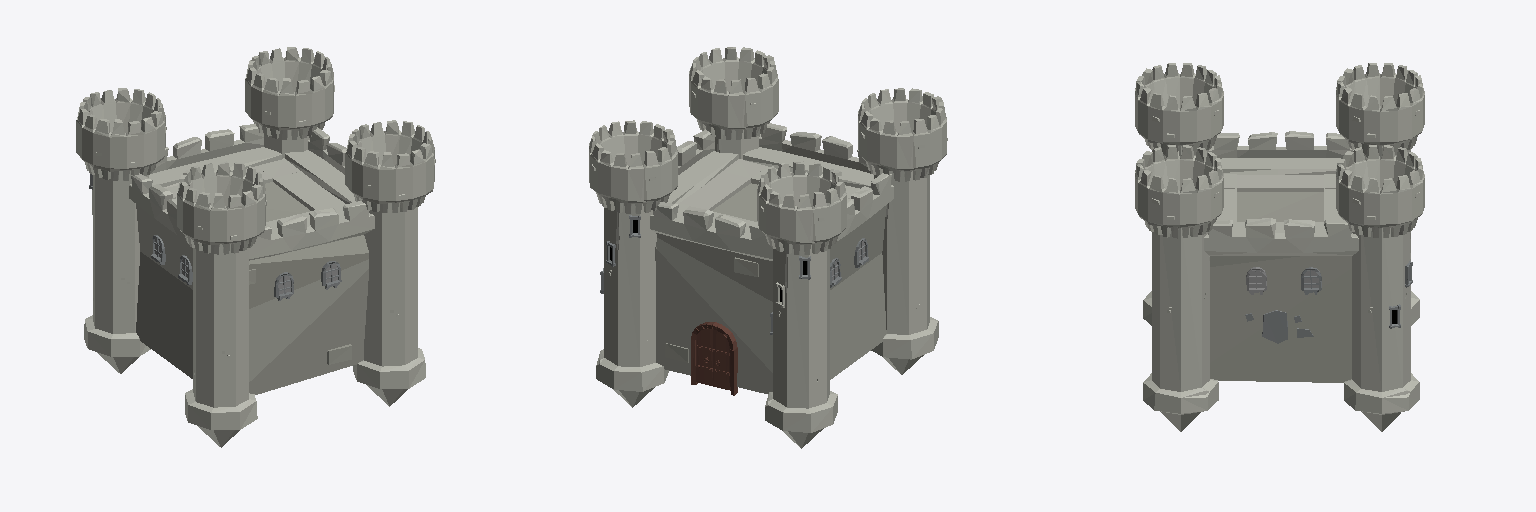
File: keep_north.obj
The picture shows the model from 3 angles: view 1: azimuth 30°, elevation 25°; view 2: azimuth 150°, elevation 25°; view 3: azimuth 270°, elevation 25°; orthographic projection.
Parts seen in each view (by area): view 1: HouseBase_3_AO.001_HouseBase_3_AO.005, Castle-tower-small-ver2.005_Untitled.088, Castle-tower-small-ver2.006_Untitled.089, Castle-tower-small-ver2.004_Untitled.087, Castle-tower-small-ver2.003_Untitled.086, castle-wall-top-half.003_Untitled.090, castle-wall-top-half.006_Untitled.093, castle-wall-top-half.005_Untitled.092, castle-wall-top-half.004_Untitled.091; view 2: HouseBase_3_AO.001_HouseBase_3_AO.005, Castle-tower-small-ver2.004_Untitled.087, Castle-tower-small-ver2.003_Untitled.086, Castle-tower-small-ver2.005_Untitled.088, Castle-tower-small-ver2.006_Untitled.089, castle-wall-top-half.005_Untitled.092, castle-wall-top-half.006_Untitled.093, castle-wall-top-half.003_Untitled.090, Castle-gate-closed.001_Untitled.096, castle-wall-top-half.004_Untitled.091; view 3: HouseBase_3_AO.001_HouseBase_3_AO.005, Castle-tower-small-ver2.006_Untitled.089, Castle-tower-small-ver2.003_Untitled.086, Castle-tower-small-ver2.004_Untitled.087, Castle-tower-small-ver2.005_Untitled.088, castle-wall-top-half.004_Untitled.091, castle-wall-top-half.006_Untitled.093, Paving_3_AO.004, castle-wall-top-half.005_Untitled.092, castle-wall-top-half.003_Untitled.090.
Boxes of the visible parts, x1=… form: HouseBase_3_AO.001_HouseBase_3_AO.005: x1=136, y1=182, x2=368, y2=394; Castle-tower-small-ver2.005_Untitled.088: x1=177, y1=161, x2=266, y2=447; Castle-tower-small-ver2.006_Untitled.089: x1=345, y1=120, x2=435, y2=406; Castle-tower-small-ver2.004_Untitled.087: x1=76, y1=88, x2=166, y2=373; Castle-tower-small-ver2.003_Untitled.086: x1=245, y1=47, x2=334, y2=158; castle-wall-top-half.003_Untitled.090: x1=149, y1=124, x2=298, y2=197; castle-wall-top-half.006_Untitled.093: x1=257, y1=127, x2=355, y2=215; castle-wall-top-half.005_Untitled.092: x1=249, y1=201, x2=374, y2=260; castle-wall-top-half.004_Untitled.091: x1=129, y1=173, x2=185, y2=240; HouseBase_3_AO.001_HouseBase_3_AO.005: x1=655, y1=183, x2=886, y2=393; Castle-tower-small-ver2.004_Untitled.087: x1=757, y1=161, x2=846, y2=448; Castle-tower-small-ver2.003_Untitled.086: x1=589, y1=120, x2=677, y2=407; Castle-tower-small-ver2.005_Untitled.088: x1=858, y1=88, x2=947, y2=374; Castle-tower-small-ver2.006_Untitled.089: x1=689, y1=47, x2=778, y2=158; castle-wall-top-half.005_Untitled.092: x1=727, y1=123, x2=873, y2=197; castle-wall-top-half.006_Untitled.093: x1=667, y1=129, x2=766, y2=215; castle-wall-top-half.003_Untitled.090: x1=650, y1=202, x2=772, y2=260; Castle-gate-closed.001_Untitled.096: x1=691, y1=322, x2=737, y2=395; castle-wall-top-half.004_Untitled.091: x1=837, y1=173, x2=893, y2=240; HouseBase_3_AO.001_HouseBase_3_AO.005: x1=1210, y1=192, x2=1351, y2=382; Castle-tower-small-ver2.006_Untitled.089: x1=1135, y1=145, x2=1223, y2=431; Castle-tower-small-ver2.003_Untitled.086: x1=1336, y1=145, x2=1424, y2=431; Castle-tower-small-ver2.004_Untitled.087: x1=1336, y1=63, x2=1424, y2=325; Castle-tower-small-ver2.005_Untitled.088: x1=1135, y1=63, x2=1223, y2=325; castle-wall-top-half.004_Untitled.091: x1=1209, y1=131, x2=1353, y2=191; castle-wall-top-half.006_Untitled.093: x1=1204, y1=218, x2=1358, y2=255; Paving_3_AO.004: x1=1245, y1=310, x2=1313, y2=343; castle-wall-top-half.005_Untitled.092: x1=1178, y1=151, x2=1236, y2=231; castle-wall-top-half.003_Untitled.090: x1=1324, y1=148, x2=1382, y2=231.
Bounding box in the file's own units: 4.68 × 4.9 × 4.77.